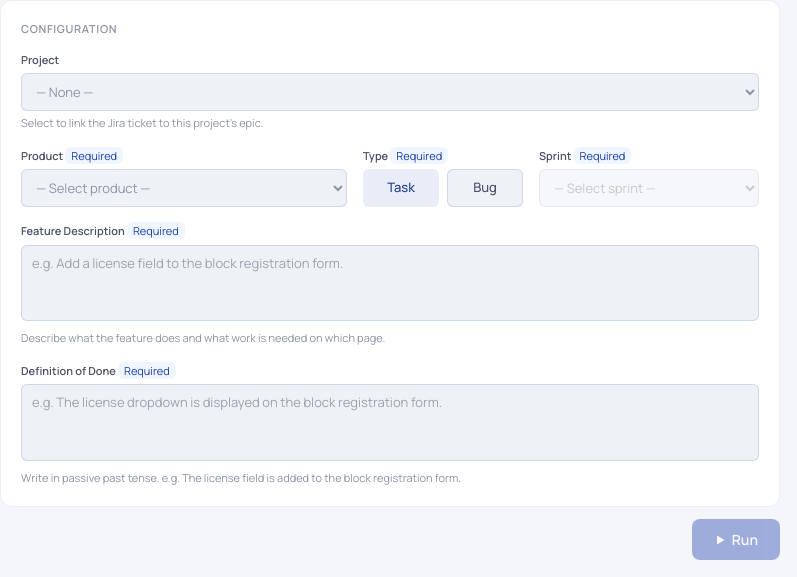
it: JiraTicketForm › Run 실행 › Run 클릭 시 Running... 상태가 된다
Select "ODM" in the dropdown with test id "product-select" at (184, 188), box [21, 169, 347, 207]
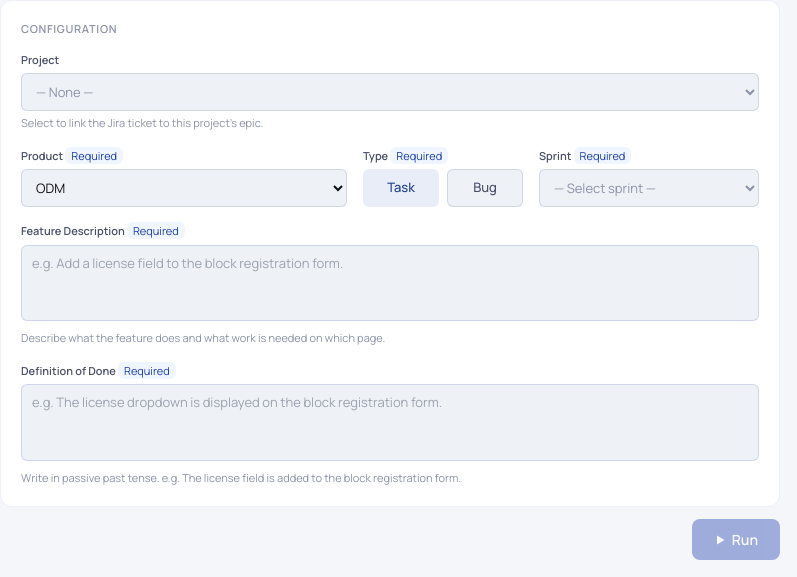
Select "Onco Sprint 79" in the dropdown with test id "sprint-select" at (649, 188), box [539, 169, 759, 207]
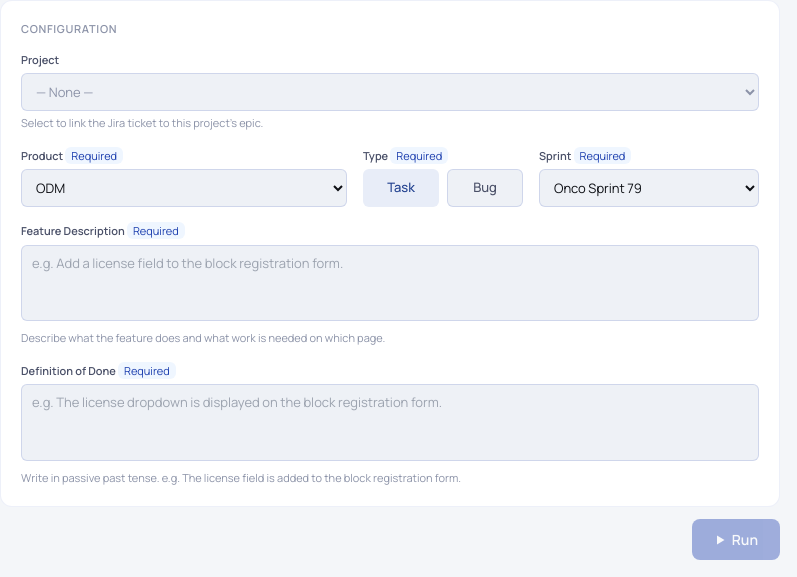
Type "기능 설명" into the text box with test id "feature-input" at (390, 283), box [21, 244, 759, 321]
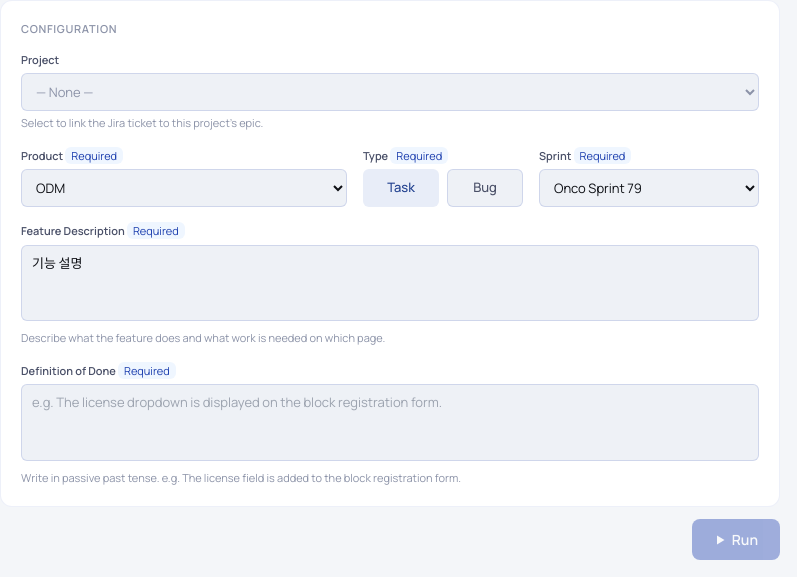
Replace the text in the text box with test id "dod-input" with "완료 조건" at (390, 422), box [21, 384, 759, 460]
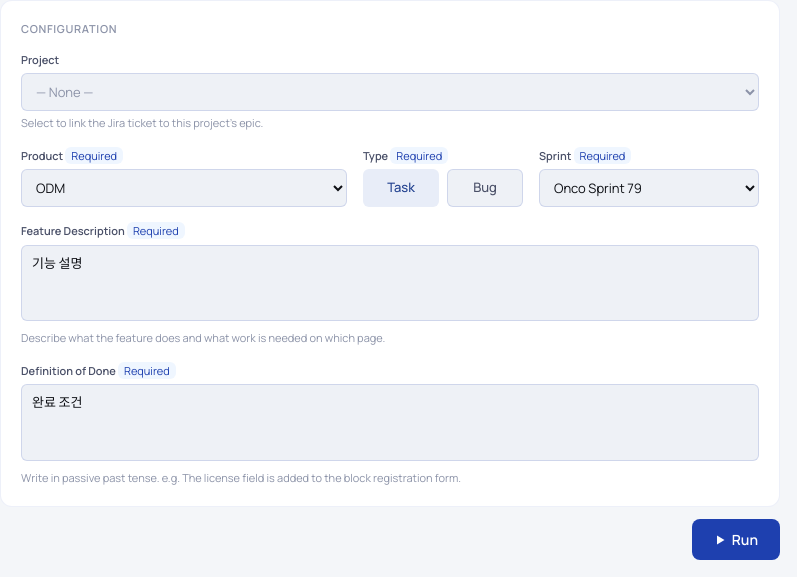
Click the button with test id "run-btn" at (736, 540), box [692, 519, 780, 560]
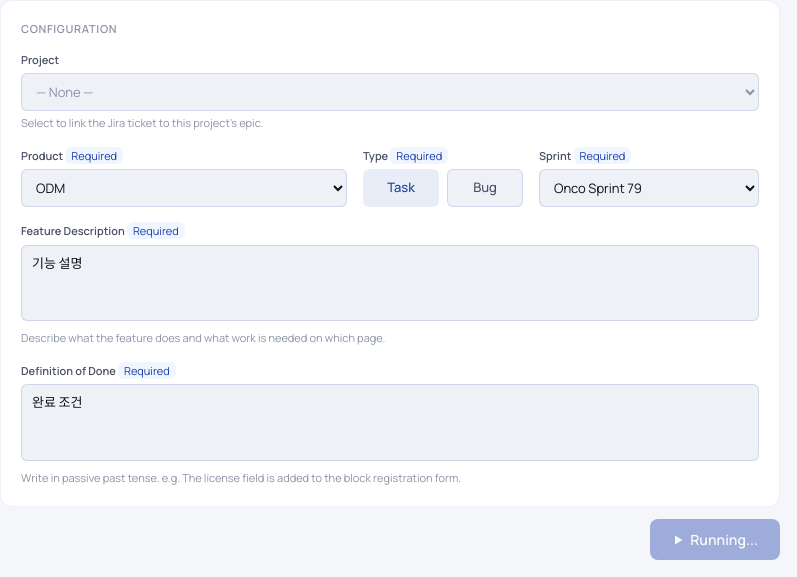
expect the button with test id "run-btn" reads "Running...": met, box [650, 519, 780, 560]
